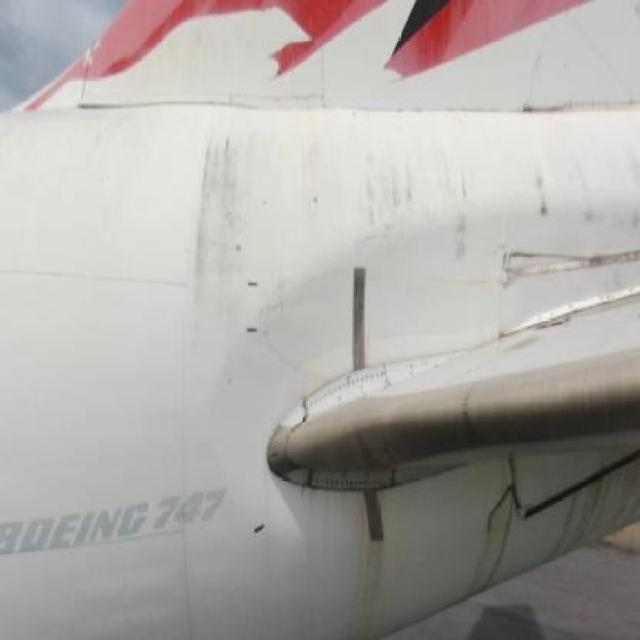Missing-Rivet: (303, 365, 392, 409), (304, 462, 399, 503)
Rust: (192, 116, 336, 330), (348, 121, 487, 297), (514, 122, 640, 256), (552, 454, 640, 572), (468, 470, 522, 596), (348, 492, 394, 628)
Scartch: (252, 254, 312, 354), (499, 246, 598, 306)
